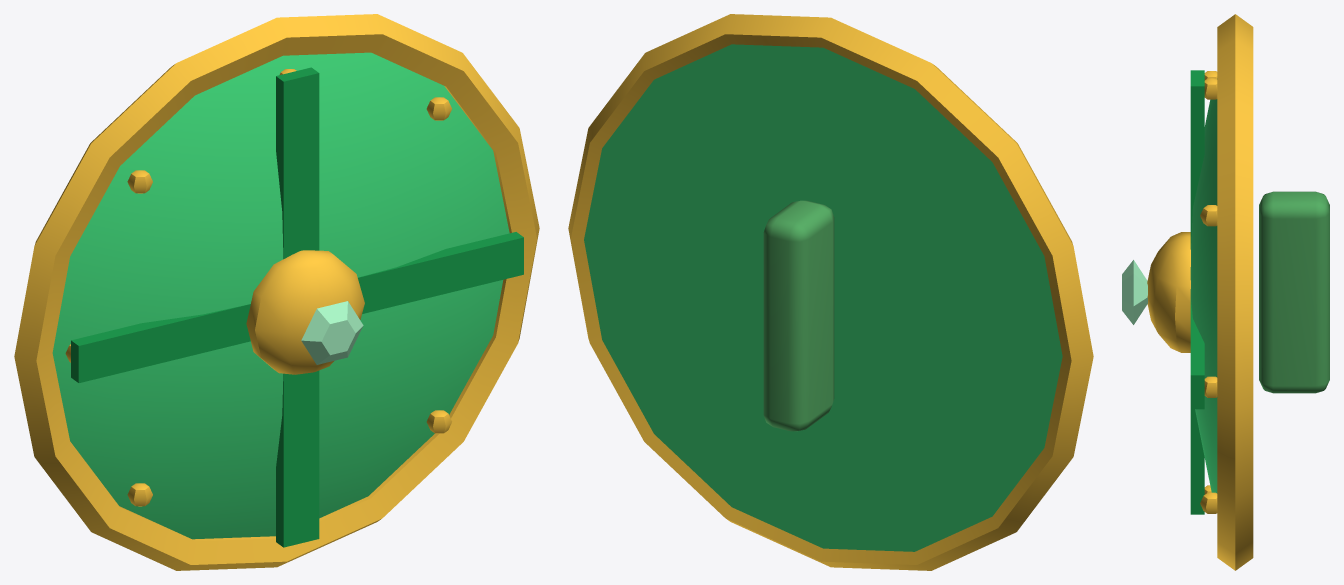
Rendered from EmeraldShield.fbx.
3 views of the same model, side by side, from view 1: azimuth 30°, elevation 25°; view 2: azimuth 150°, elevation 25°; view 3: azimuth 270°, elevation 25° (orthographic). The views are drawn at different scales.
Visible parts, largest first — view 1: EmeraldShield; view 2: EmeraldShield; view 3: EmeraldShield.
Boxes of the visible parts, <box> form: EmeraldShield: <box>14,14,539,570</box>; EmeraldShield: <box>568,14,1093,570</box>; EmeraldShield: <box>1122,14,1329,570</box>.
Size of the model in its own units: 2.36 by 2.36 by 0.88.
Materials: 1 (1 with a texture image).
